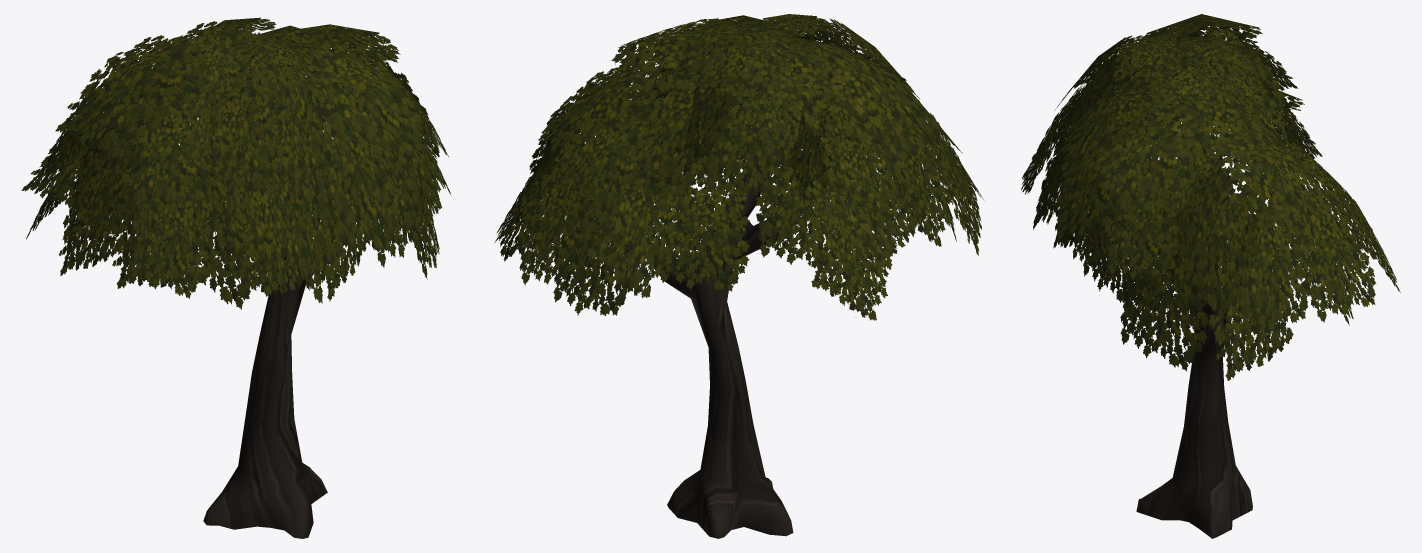
The model's file is fanasty_mod_lar_leaftree01.fbx.
3 views of the same model, side by side, from view 1: azimuth 30°, elevation 25°; view 2: azimuth 150°, elevation 25°; view 3: azimuth 270°, elevation 25° (orthographic). The views are drawn at different scales.
Visible parts, largest first — view 1: lar_leaftree_01; view 2: lar_leaftree_01; view 3: lar_leaftree_01.
Part boxes in pixels (x1,y1,x2,y2): lar_leaftree_01: (21, 17, 450, 538); lar_leaftree_01: (494, 14, 983, 538); lar_leaftree_01: (1021, 14, 1400, 538).
Bounding box in the file's own units: 8.64 × 9.45 × 7.25.
